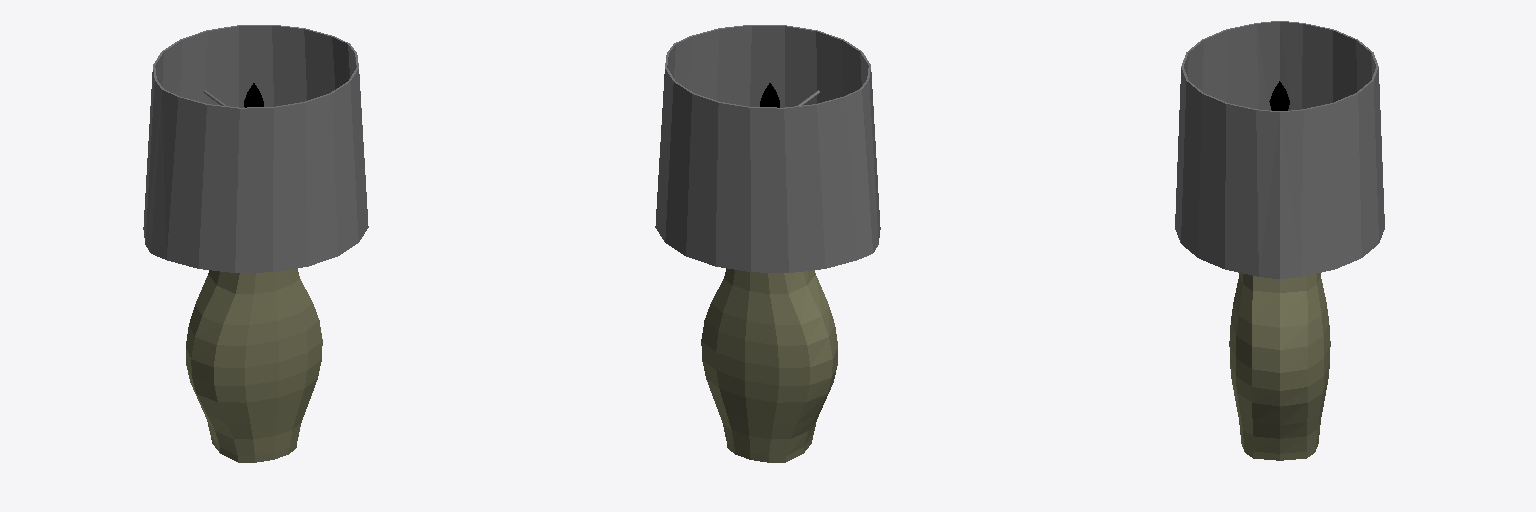
Rendered from Lamp_Mesh.obj.
3 views of the same model, side by side, from view 1: azimuth 30°, elevation 25°; view 2: azimuth 150°, elevation 25°; view 3: azimuth 270°, elevation 25° (orthographic).
Parts seen in each view (by area): view 1: LampShade, LampBase; view 2: LampShade, LampBase; view 3: LampShade, LampBase.
Part boxes in pixels (bbox=[...]): LampShade: bbox=[143, 25, 368, 272]; LampBase: bbox=[186, 268, 322, 462]; LampShade: bbox=[655, 25, 880, 272]; LampBase: bbox=[701, 268, 837, 462]; LampShade: bbox=[1175, 21, 1384, 278]; LampBase: bbox=[1229, 273, 1330, 460].
Bounding box in the file's own units: 2.73 × 4.69 × 2.36.